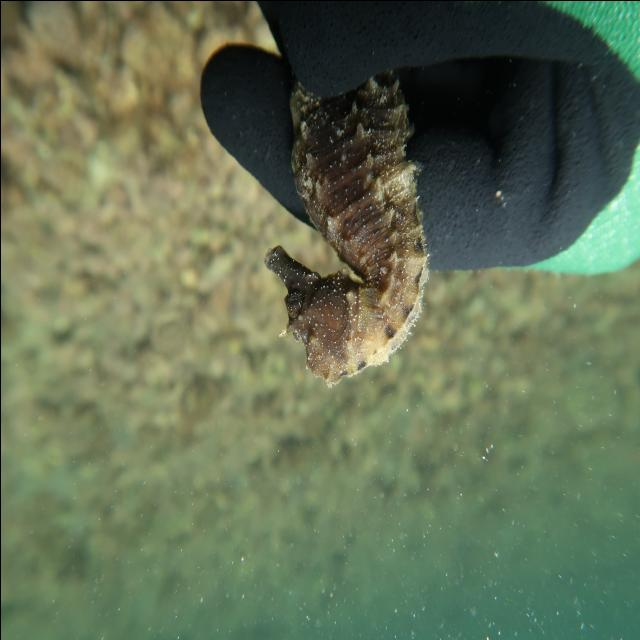Guttu: (258, 236, 362, 390)
